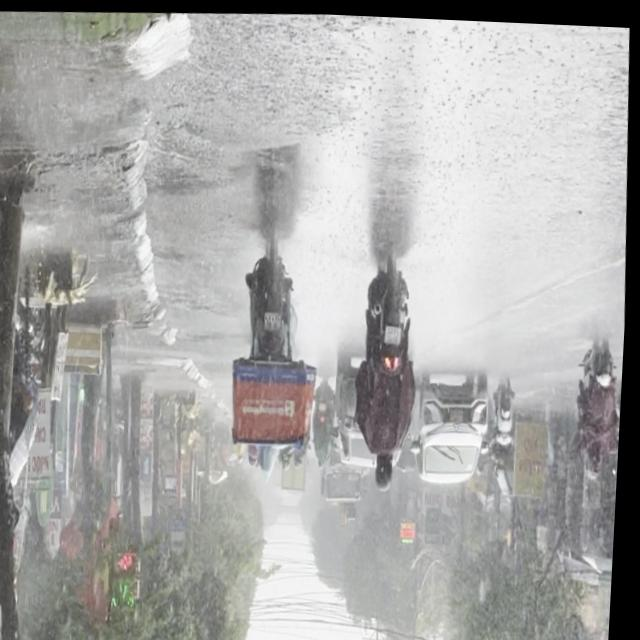helmet: (379, 452, 401, 490), (260, 440, 283, 475)
licenseplate: (225, 223, 331, 485), (352, 251, 430, 492)
nohelmet: (266, 307, 286, 330), (388, 323, 406, 342)
